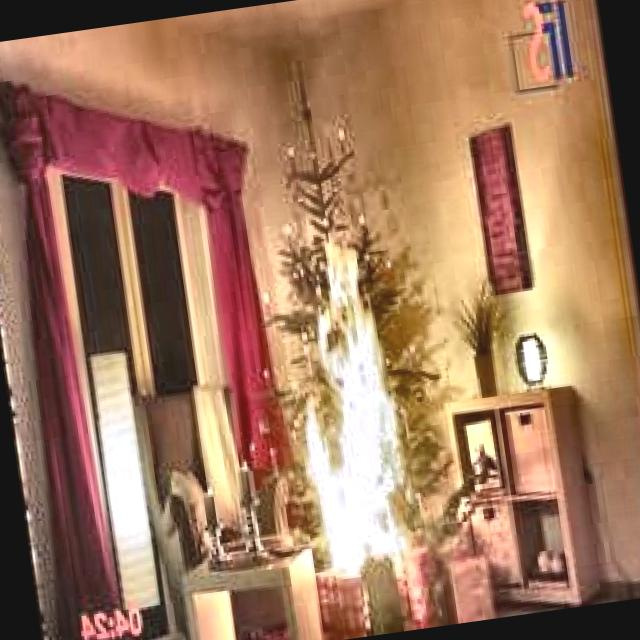fire: (262, 232, 417, 574)
